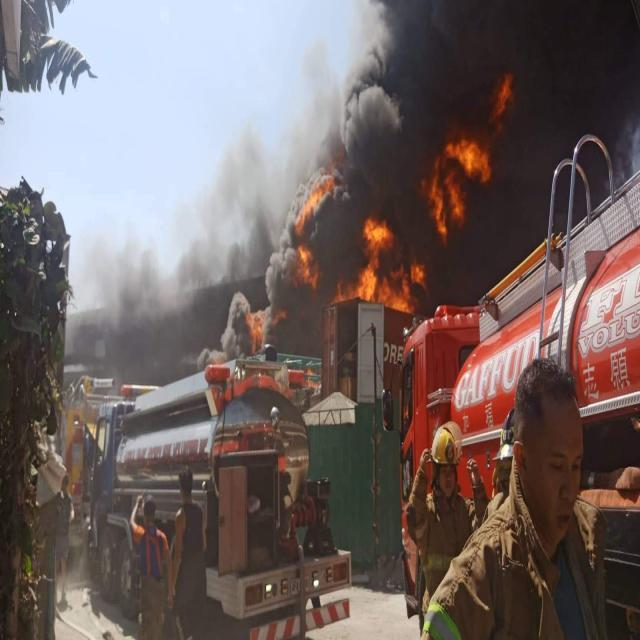Fire: (420, 60, 526, 238), (334, 204, 426, 314), (290, 171, 334, 291), (243, 299, 284, 339)
Smoke: (197, 0, 640, 368)
